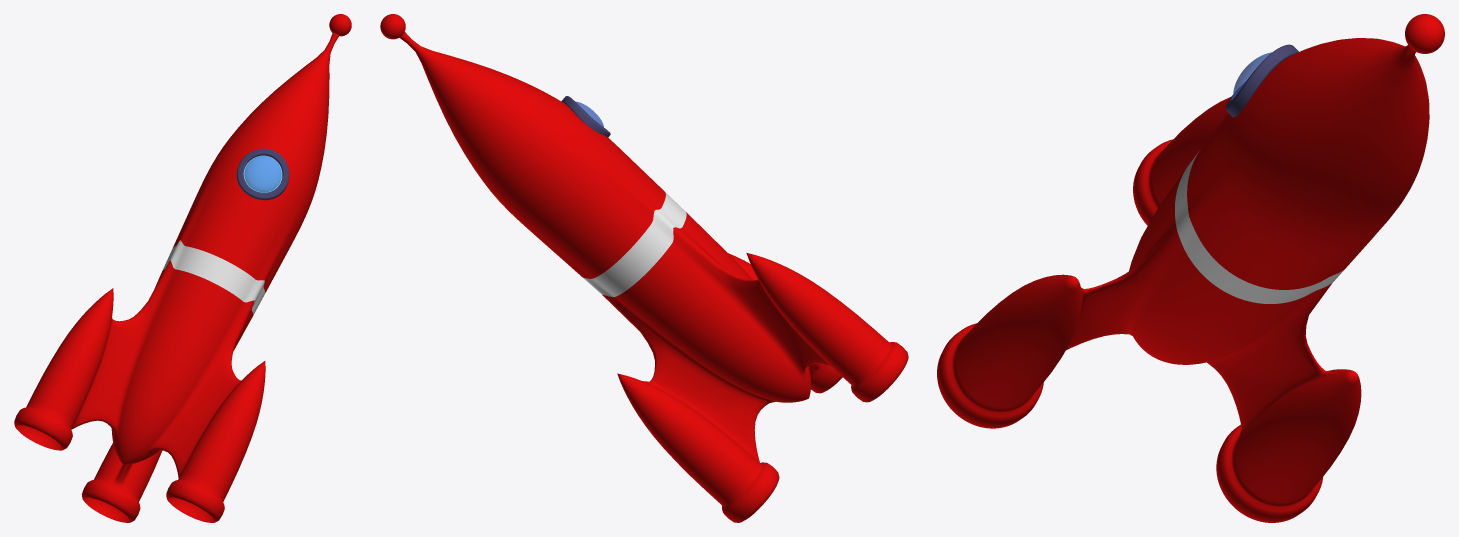
File: arkit-rocket.dae
3 renders of one model, left to right at view 1: azimuth 30°, elevation 25°; view 2: azimuth 150°, elevation 25°; view 3: azimuth 270°, elevation 25°, orthographic. The views are drawn at different scales.
Visible parts, largest first — view 1: Body, Backing, Glass, Rim, Ball; view 2: Body; view 3: Body, Rim, Ball.
Boxes of the visible parts, <box> form: Body: <box>14,32,338,522</box>; Backing: <box>243,155,282,192</box>; Glass: <box>244,156,281,192</box>; Rim: <box>236,148,289,200</box>; Ball: <box>329,14,351,36</box>; Body: <box>399,32,908,522</box>; Body: <box>937,38,1429,522</box>; Rim: <box>1226,44,1298,117</box>; Ball: <box>1405,14,1444,53</box>.
Size of the model in its own units: 0.963 by 0.9553 by 0.5995.
